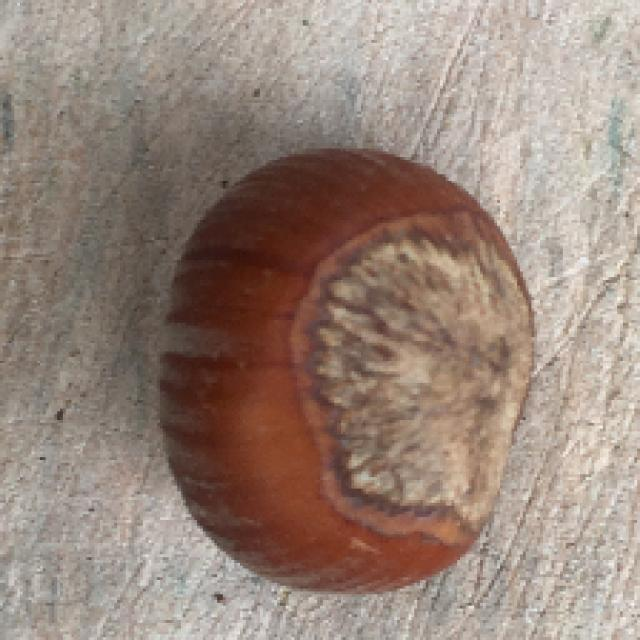qualityHazelnut: (155, 143, 533, 599)
